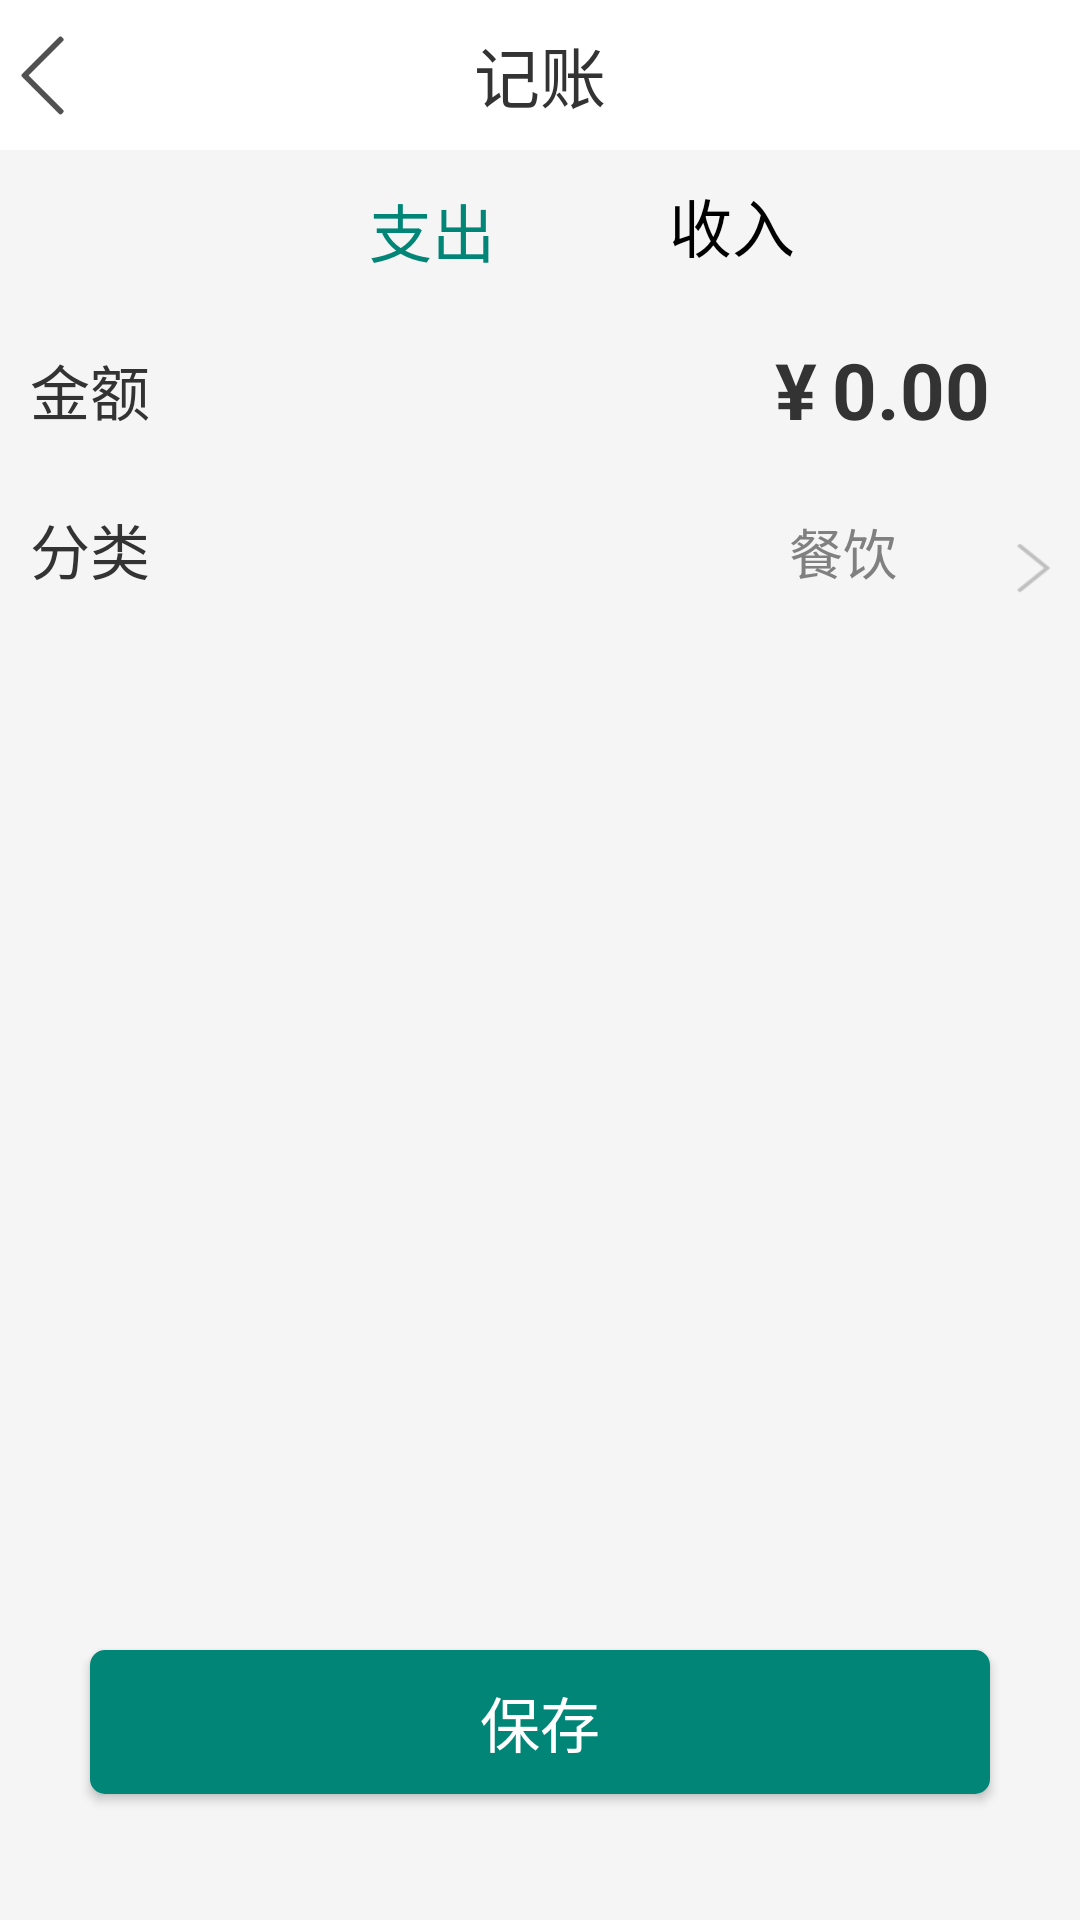

Where to tap for icons on this 1080w x 1920h app screen, as point (x, y):
back: point (42, 75)
next: point (1033, 568)
